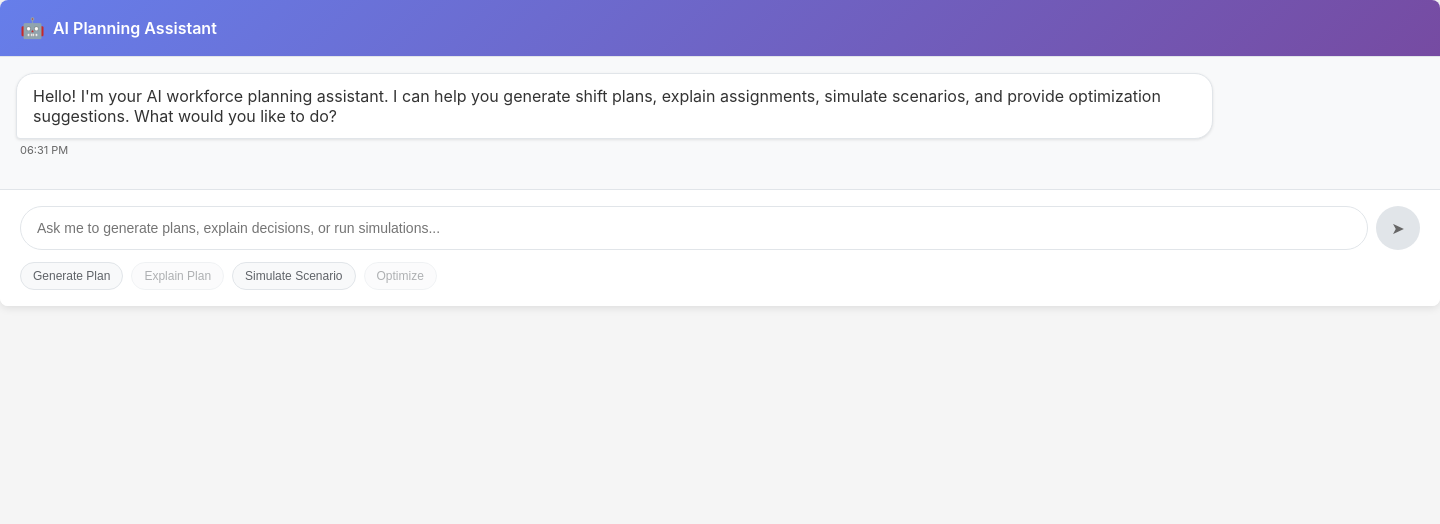
Test: AIAssistant › handles plan generation failure
Replace the text in the field with placeholder "Ask me to generate plans" with "generate plan": (694, 228) [20, 206, 1368, 250]
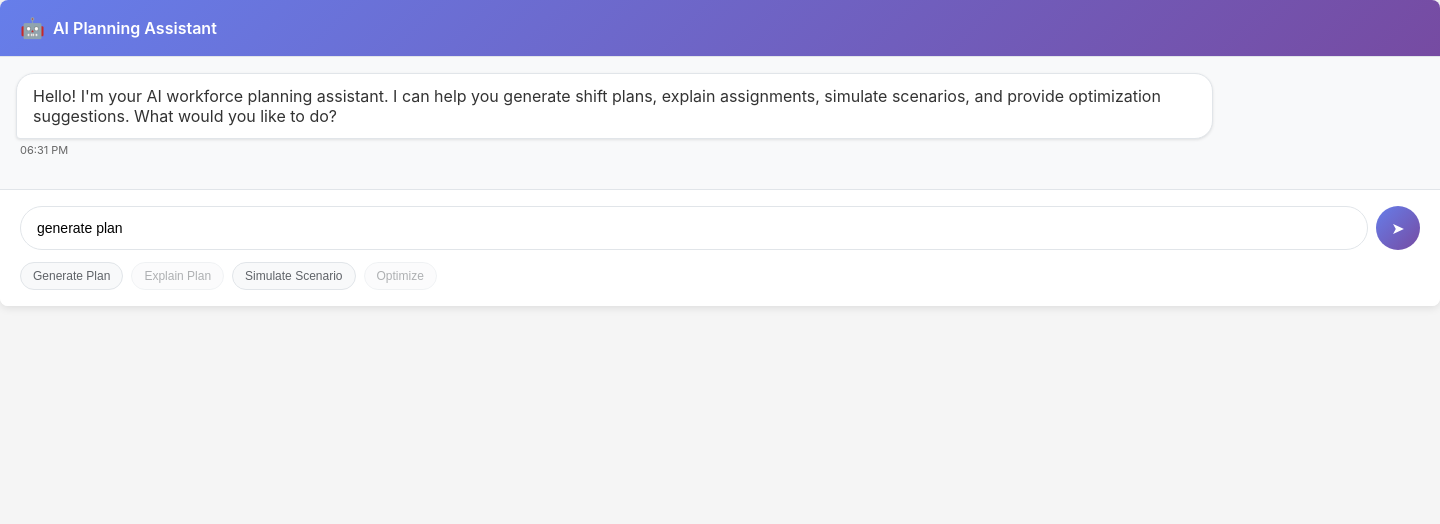
Click the button "➤": (1398, 228) [1376, 206, 1420, 250]
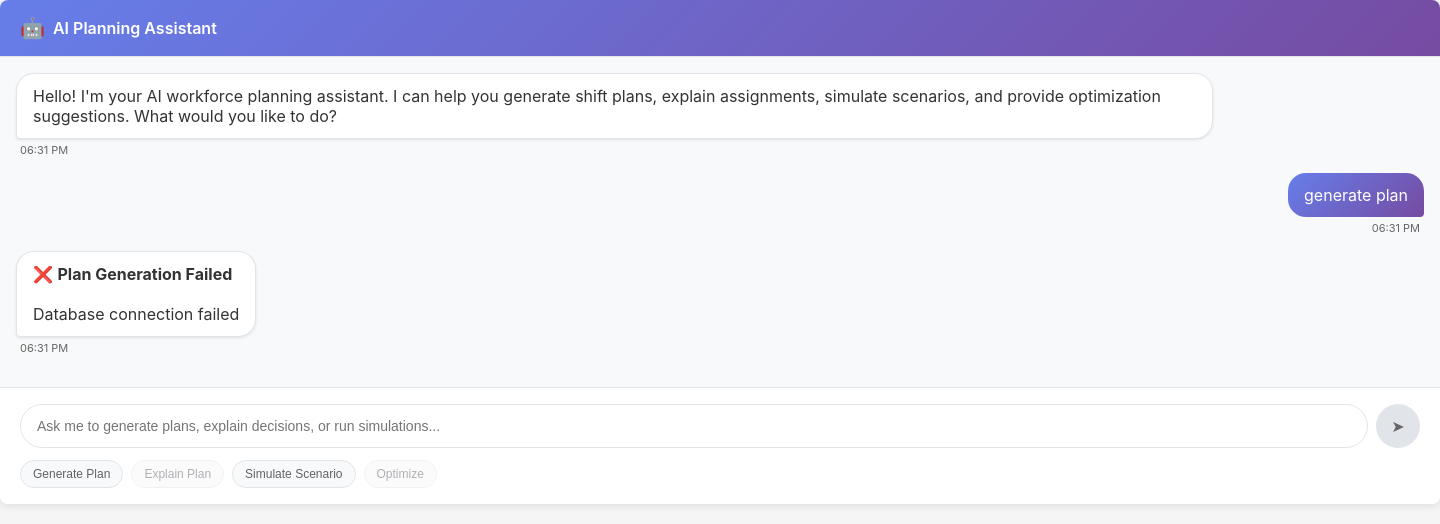
Expected: the text "Plan Generation Failed" is shown, [58, 264, 232, 284]
Expected: the text "Database connection failed" is shown, [33, 304, 239, 324]
